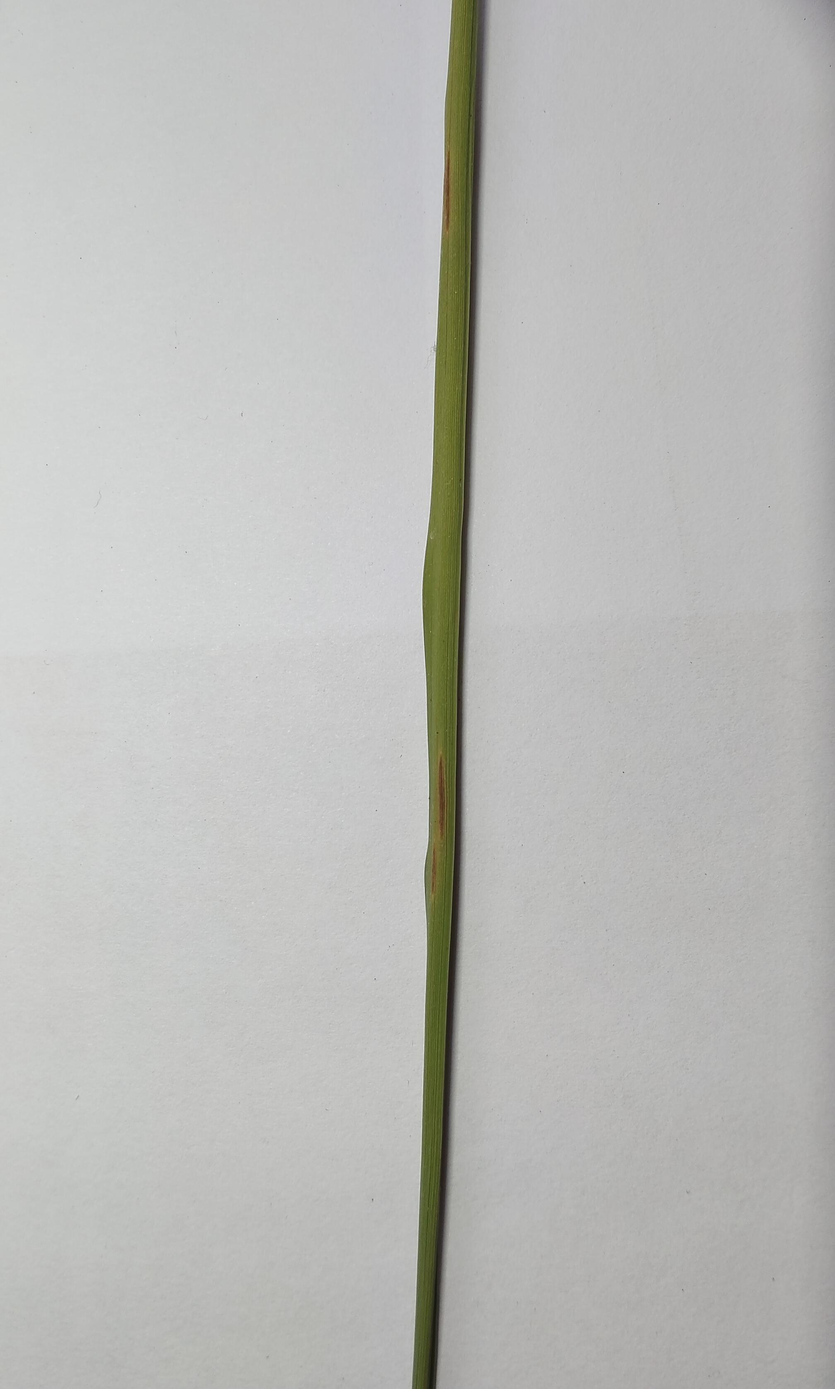NBS: (438, 754, 446, 840), (444, 149, 451, 234), (431, 840, 437, 896)
